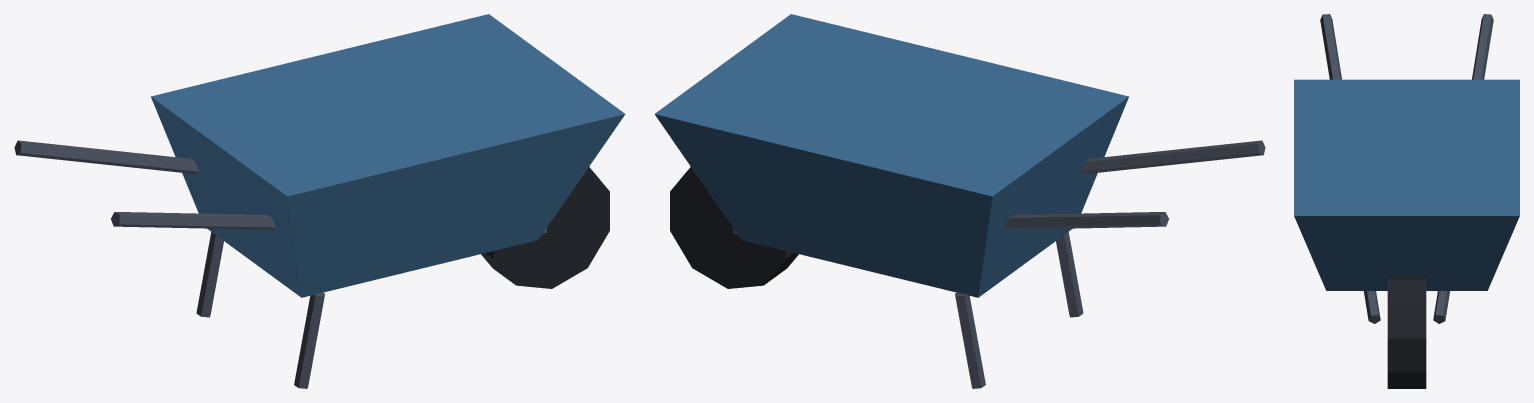
Rendered from wheelbarrow.glb.
The picture shows the model from 3 angles, left to right: view 1: azimuth 30°, elevation 25°; view 2: azimuth 150°, elevation 25°; view 3: azimuth 270°, elevation 25°; orthographic projection. The views are drawn at different scales.
Visible parts, largest first — view 1: wheelbarrow; view 2: wheelbarrow; view 3: wheelbarrow.
Boxes of the visible parts, <box> form: wheelbarrow: <box>14,14,625,388</box>; wheelbarrow: <box>654,14,1265,388</box>; wheelbarrow: <box>1294,14,1519,388</box>.
Size of the model in its own units: 1.58 by 0.6198 by 0.7.
